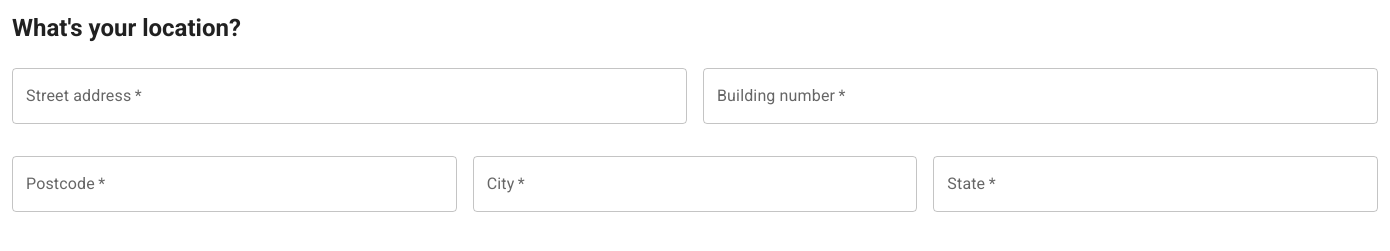
LocationStep › should display an error if postcode is required
This screenshot has width=1390, height=251.
Type "1" into the field labelled "Postcode *" at (234, 184), box [12,156,457,212]
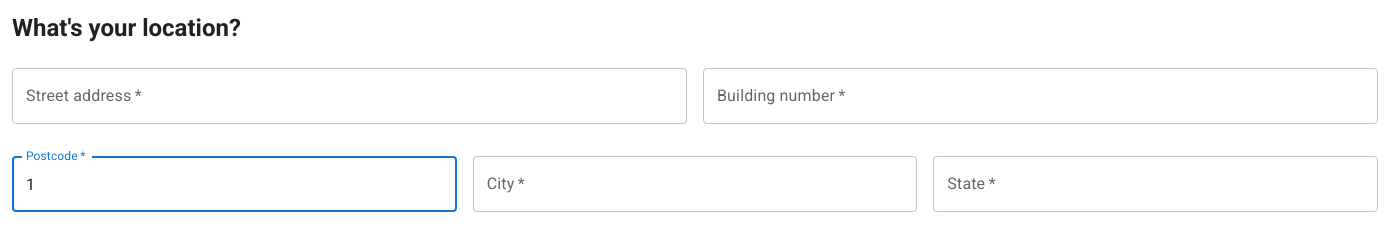
Clear the field labelled "Postcode *" at (234, 184), box [12,156,457,212]
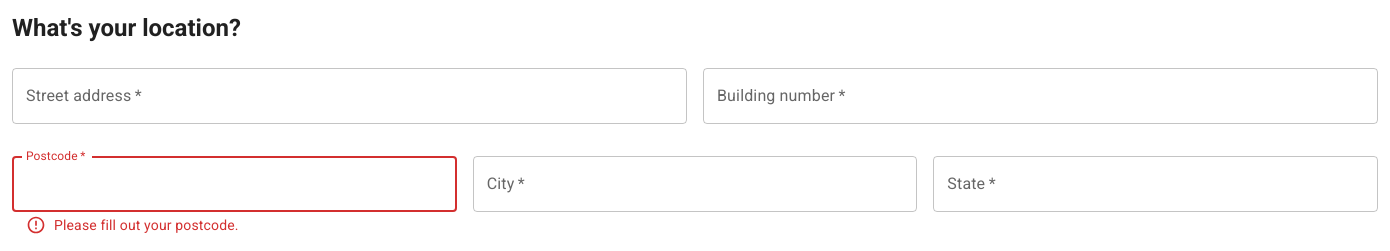
expect the message shows "fill out your postcode": met, box [54,217,239,233]
